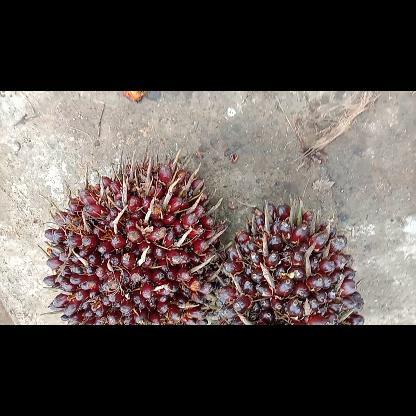Kurang masak: (224, 202, 364, 324)
TBS masak: (43, 160, 217, 324)
